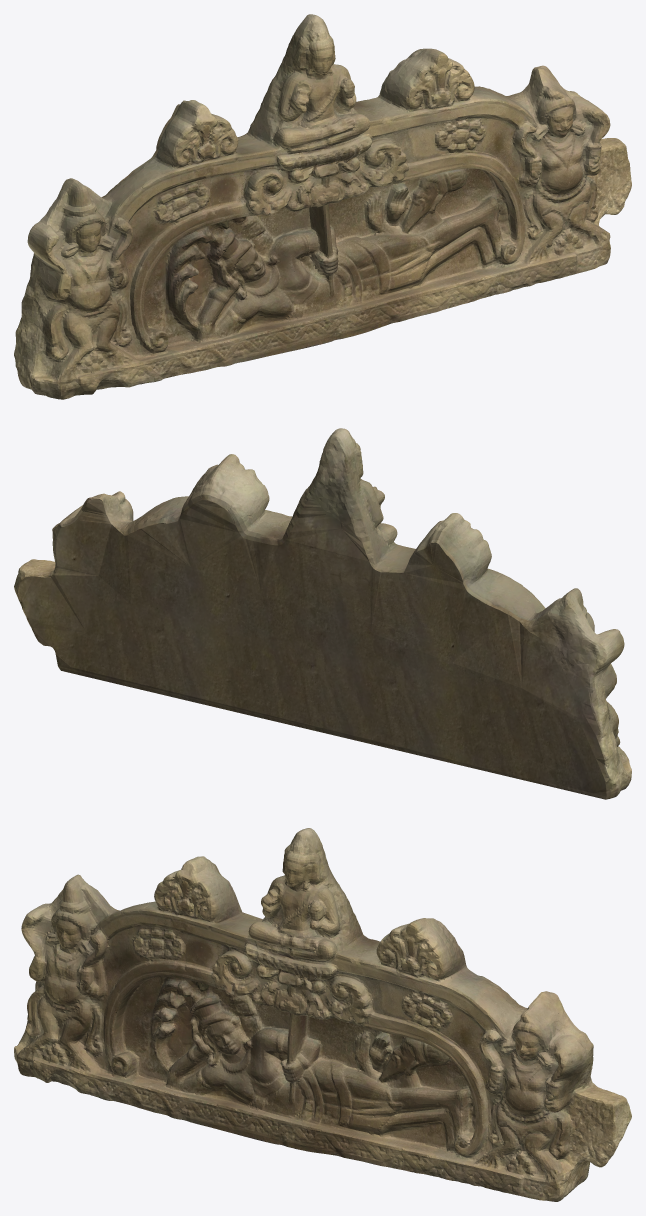
Rendered from 2_phudieudansinhbrahma_final.glb.
The picture shows the model from 3 angles, top to bottom: view 1: azimuth 30°, elevation 25°; view 2: azimuth 150°, elevation 25°; view 3: azimuth 330°, elevation 25°; orthographic projection. The views are drawn at different scales.
Bounding box in the file's own units: 2.37 × 1.14 × 0.2918.
1 material, 1 textured.
